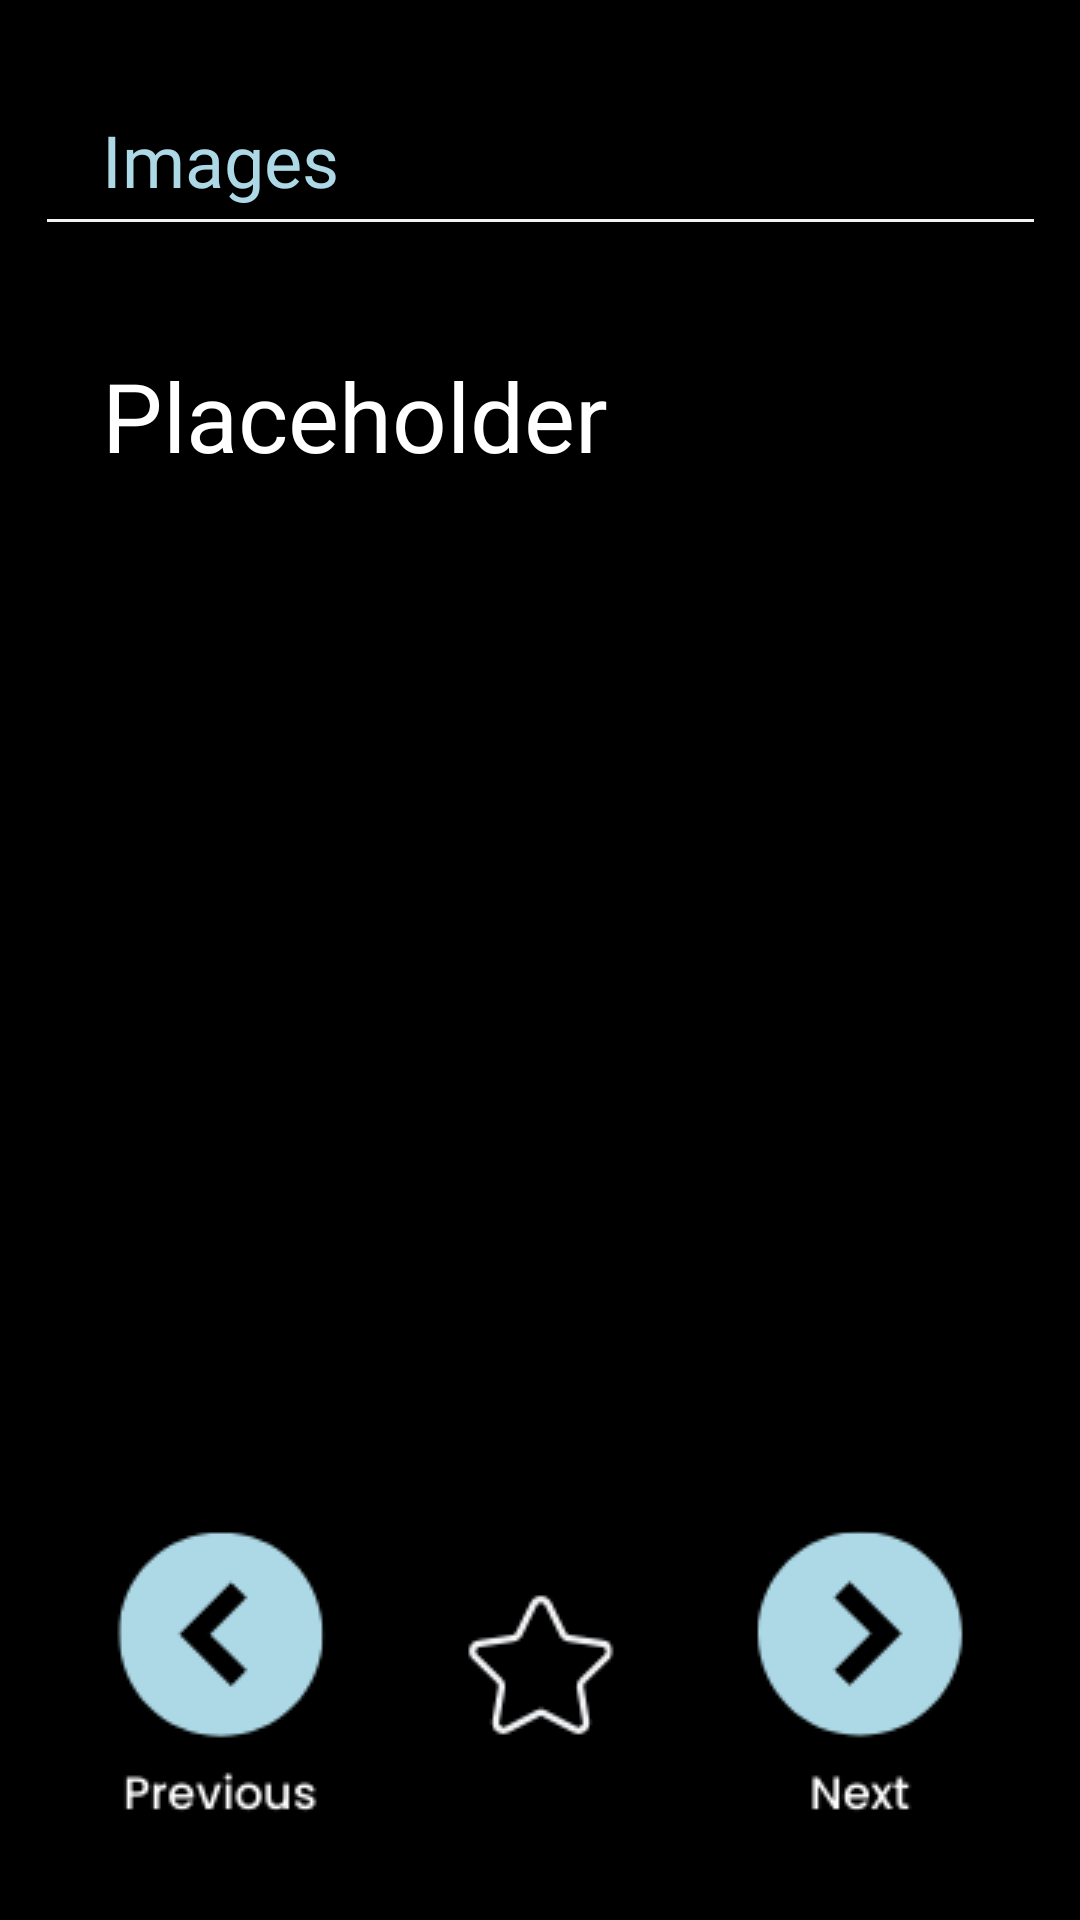

Icons on this 1080w x 1920h Android screen, each with the point to tap as [x,y]:
fav: [541,1665]
